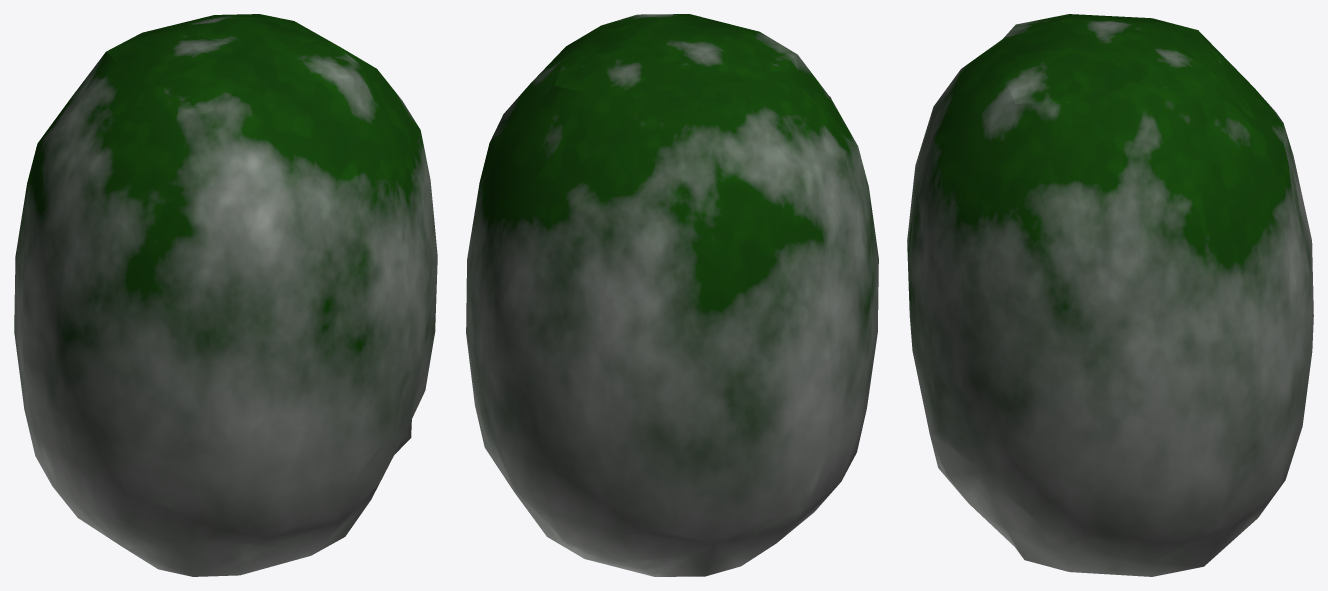
The model's file is rock_3.fbx.
3 renders of one model, left to right at view 1: azimuth 30°, elevation 25°; view 2: azimuth 150°, elevation 25°; view 3: azimuth 270°, elevation 25°, orthographic. The views are drawn at different scales.
Visible parts, largest first — view 1: rock.002; view 2: rock.002; view 3: rock.002.
Part boxes in pixels (bbox=[...]): rock.002: bbox=[14, 14, 437, 576]; rock.002: bbox=[466, 14, 878, 576]; rock.002: bbox=[907, 14, 1313, 576].
Size of the model in its own units: 58.41 by 80.04 by 57.12.
